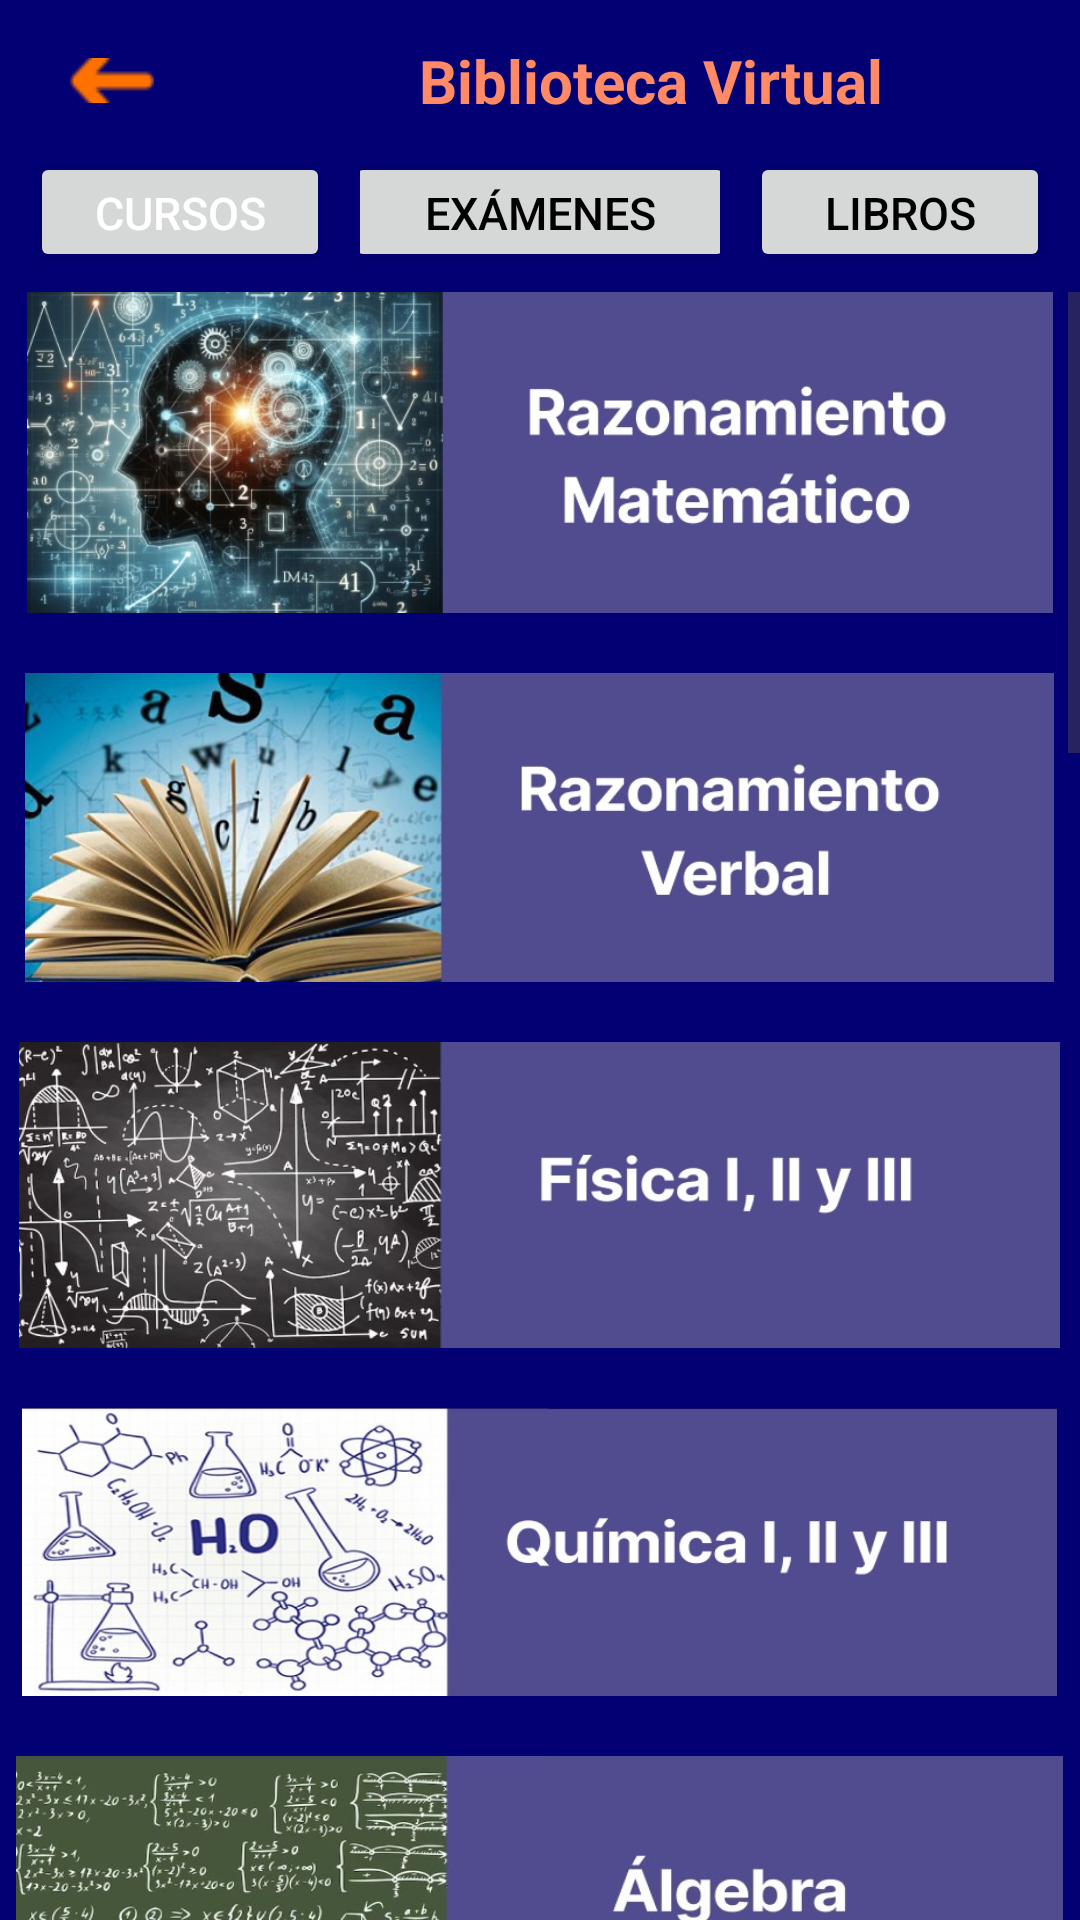

Named icons in this screenshot (1080px x 1920px) and their bounding boxes, (x1, y1, x2, y2):
flechita: (70, 58, 154, 103)
